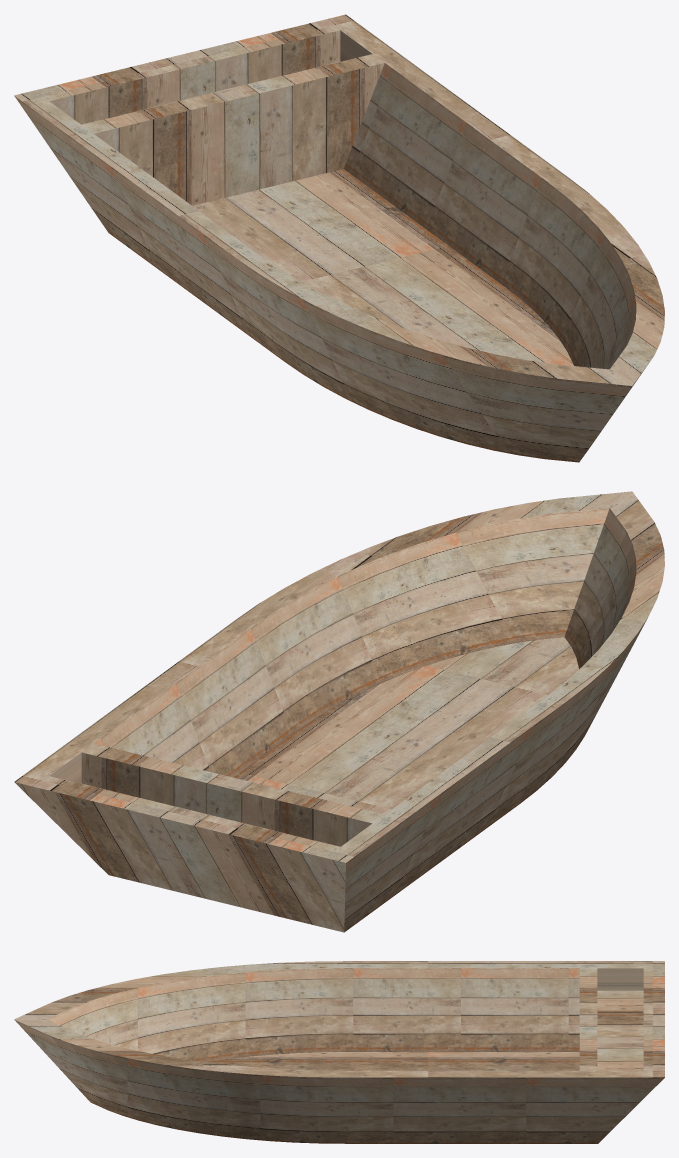
File: boat_no_sail.dae
The picture shows the model from 3 angles, top to bottom: view 1: azimuth 30°, elevation 25°; view 2: azimuth 150°, elevation 25°; view 3: azimuth 270°, elevation 25°; orthographic projection. The views are drawn at different scales.
Parts seen in each view (by area): view 1: Barco; view 2: Barco; view 3: Barco.
Part boxes in pixels (bbox=[...]): Barco: bbox=[14, 14, 664, 462]; Barco: bbox=[14, 491, 664, 932]; Barco: bbox=[14, 961, 664, 1143].
Bounding box in the file's own units: 2.68 × 6.33 × 0.89.
Materials: 1 (1 with a texture image).
